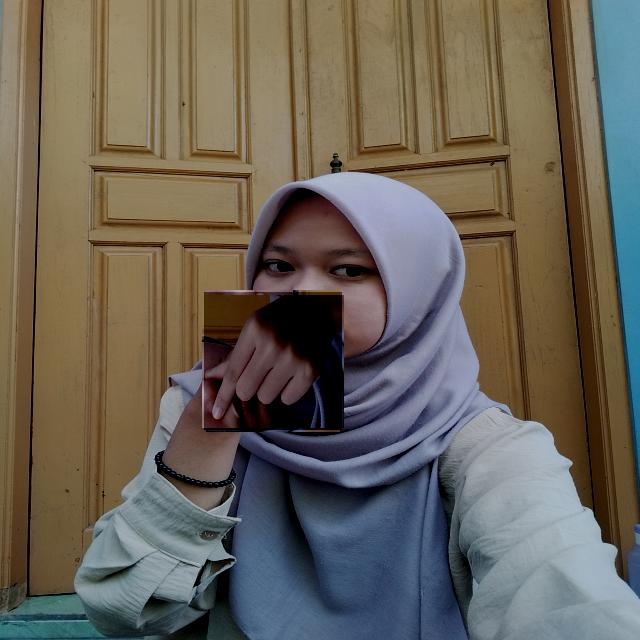bau: (204, 292, 342, 430)
